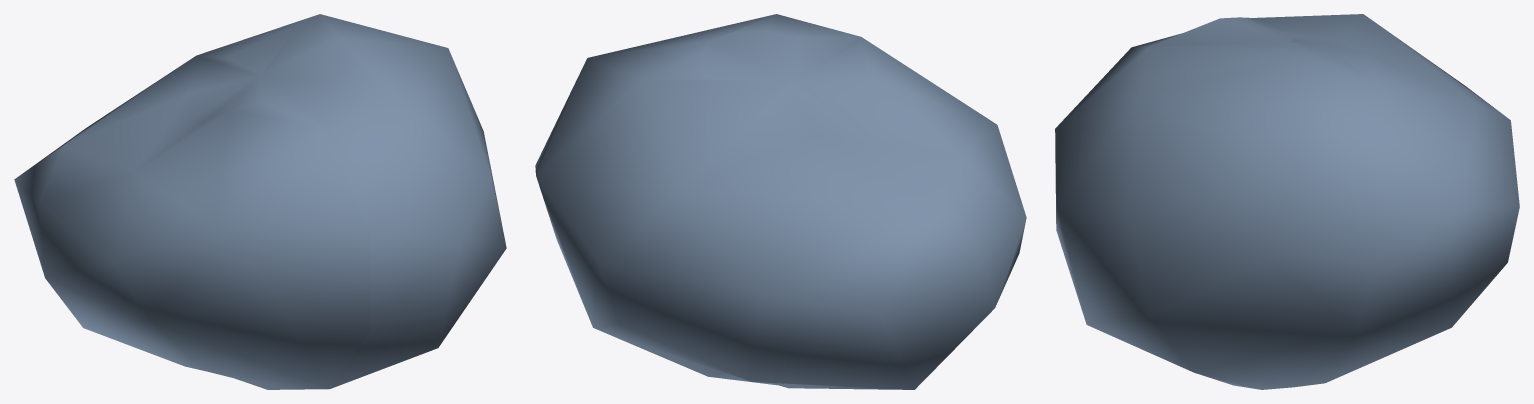
File: rock.lod1.glb
3 views of the same model, side by side, from view 1: azimuth 30°, elevation 25°; view 2: azimuth 150°, elevation 25°; view 3: azimuth 270°, elevation 25° (orthographic). The views are drawn at different scales.
Visible parts, largest first — view 1: mesh; view 2: mesh; view 3: mesh.
Boxes of the visible parts, x1,y1,x2,y2 form: mesh: (14,14,506,389); mesh: (535,14,1026,389); mesh: (1055,14,1519,389).
Size of the model in its own units: 1.32 by 0.9466 by 1.19.
